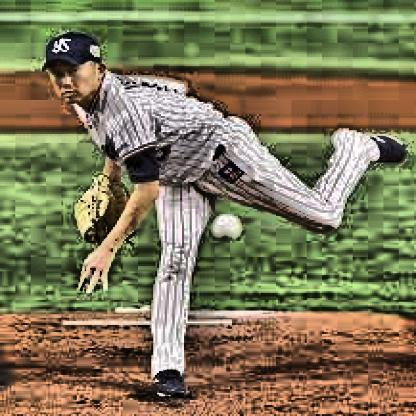baseball: (215, 212, 243, 242)
